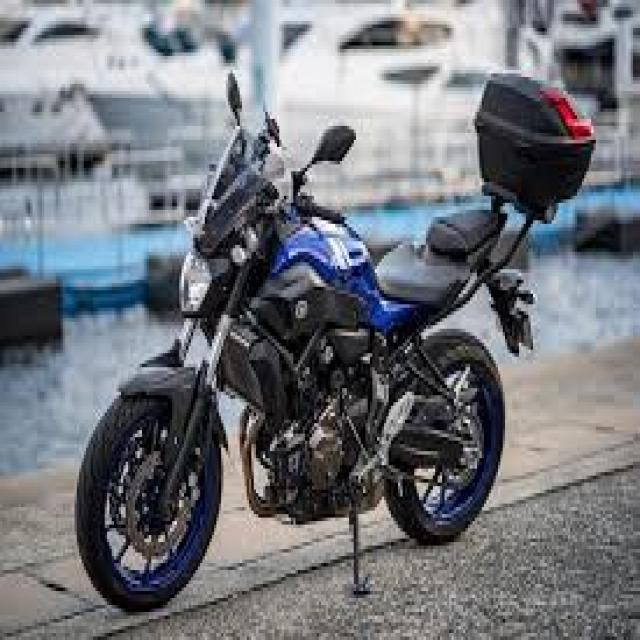bike: (76, 68, 508, 613)
